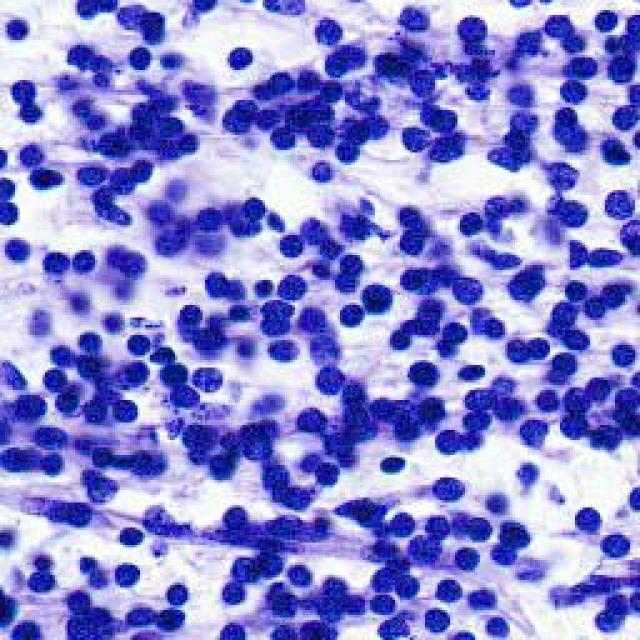cell: (332, 496, 389, 526), (209, 40, 259, 71), (182, 362, 236, 390), (118, 42, 162, 76), (2, 13, 36, 50), (85, 391, 117, 430), (242, 188, 278, 222), (76, 356, 114, 388), (190, 203, 230, 233), (11, 106, 57, 132), (176, 330, 227, 353), (101, 396, 152, 417), (116, 328, 154, 356), (20, 166, 68, 188), (49, 388, 83, 418), (24, 306, 52, 340), (161, 302, 208, 322), (37, 366, 67, 396), (12, 146, 56, 166), (110, 368, 166, 383), (42, 245, 69, 276), (134, 156, 166, 182), (76, 321, 104, 350), (50, 342, 79, 370), (74, 248, 99, 280), (6, 235, 36, 260), (311, 158, 339, 184), (15, 76, 38, 103)
